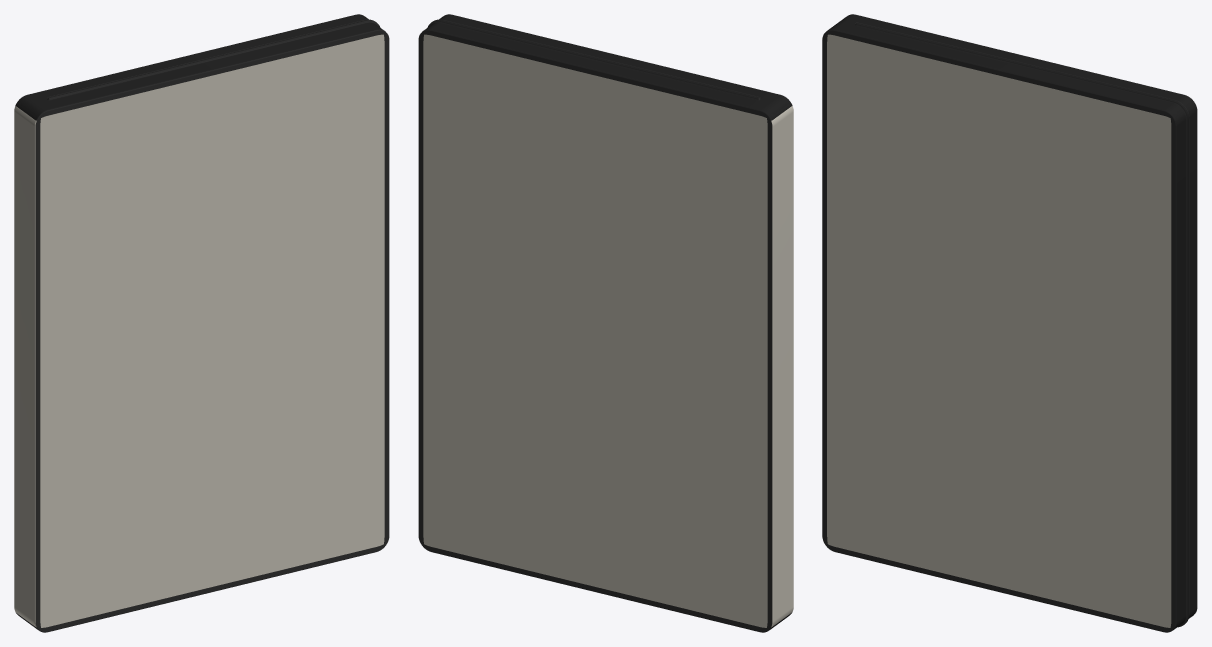
The model's file is dvd_case.glb.
3 renders of one model, left to right at view 1: azimuth 30°, elevation 25°; view 2: azimuth 150°, elevation 25°; view 3: azimuth 330°, elevation 25°, orthographic.
Visible parts, largest first — view 1: dvd_case; view 2: dvd_case; view 3: dvd_case.
Part boxes in pixels (box(x1,y1,x2,y2)): dvd_case: box(14, 14, 389, 632); dvd_case: box(418, 14, 793, 632); dvd_case: box(822, 14, 1197, 632).
Bounding box in the file's own units: 0.1358 × 0.1914 × 0.0142.
5 materials, 4 textured.
